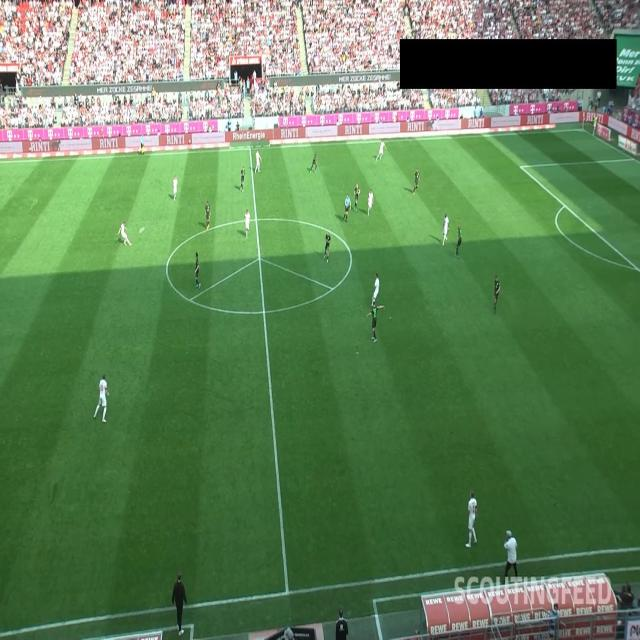ball: (139, 225, 145, 234)
